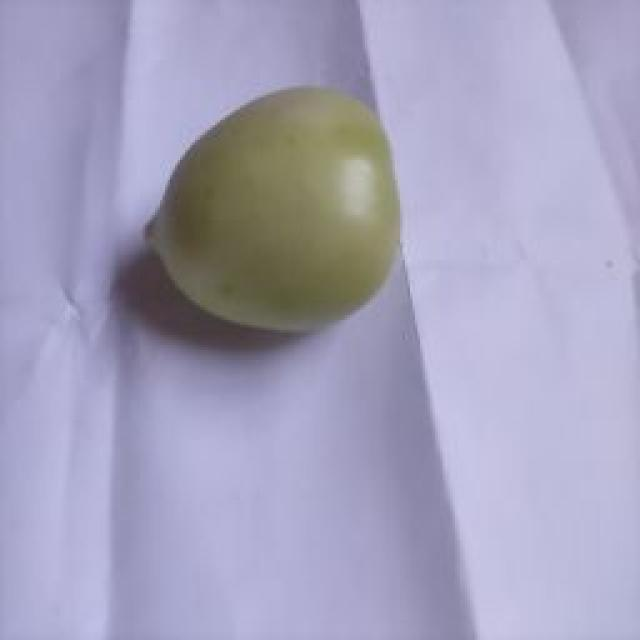unripe tomato: (142, 86, 402, 332)
